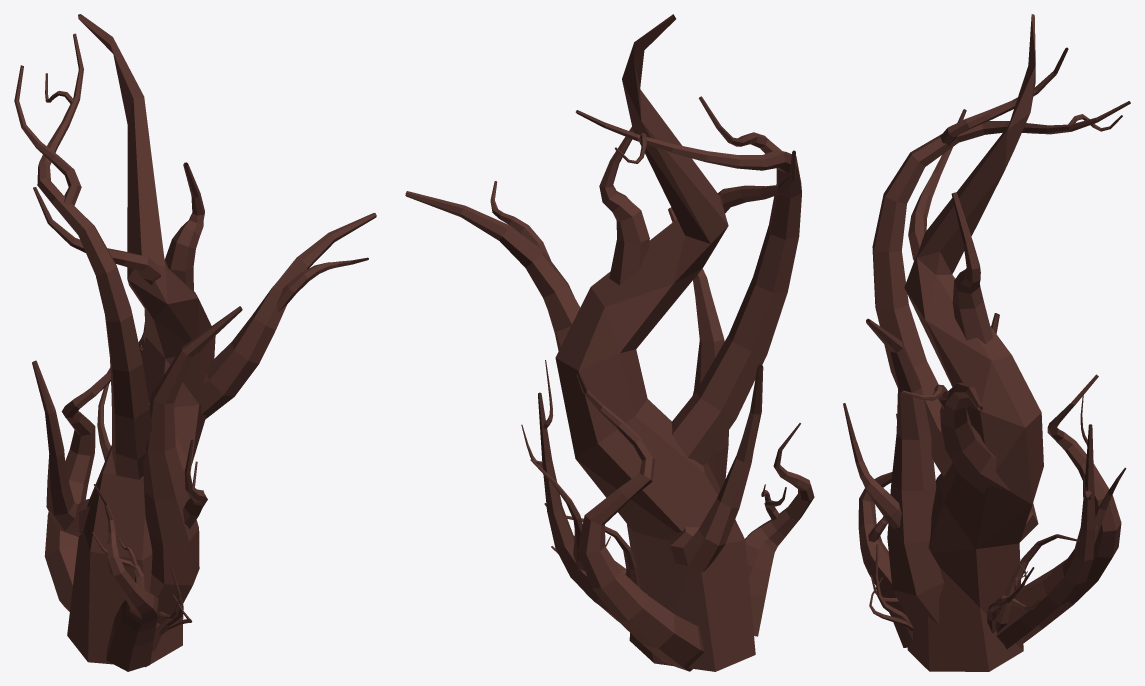
File: large-tree_3.fbx
3 renders of one model, left to right at view 1: azimuth 30°, elevation 25°; view 2: azimuth 150°, elevation 25°; view 3: azimuth 270°, elevation 25°, orthographic. The views are drawn at different scales.
Parts seen in each view (by area): view 1: LargeTree3_LOD0; view 2: LargeTree3_LOD0; view 3: LargeTree3_LOD0.
Part boxes in pixels (x1,y1,x2,y2): LargeTree3_LOD0: [14, 14, 376, 671]; LargeTree3_LOD0: [405, 14, 814, 671]; LargeTree3_LOD0: [843, 14, 1130, 671].
Size of what is drawn, in the model's own units: 12.18 by 20.58 by 8.37.
